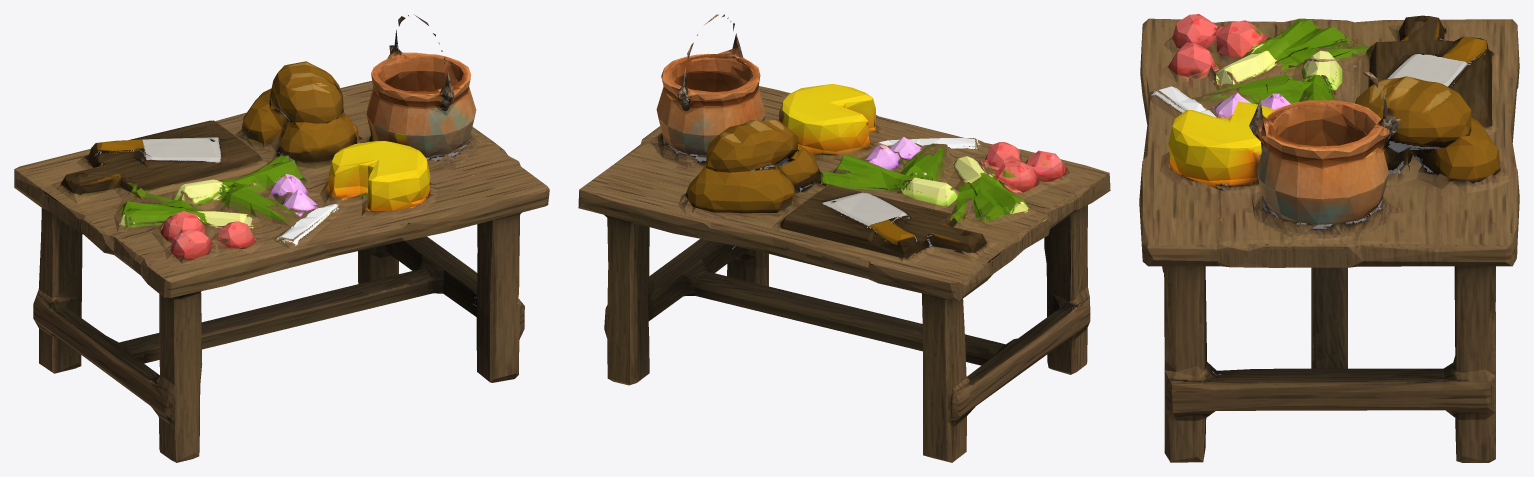
File: tut_preptable.glb
3 views of the same model, side by side, from view 1: azimuth 30°, elevation 25°; view 2: azimuth 150°, elevation 25°; view 3: azimuth 270°, elevation 25° (orthographic). The views are drawn at different scales.
Parts seen in each view (by area): view 1: tut_preptable; view 2: tut_preptable; view 3: tut_preptable.
Part boxes in pixels (x1,y1,x2,y2): tut_preptable: [14, 15, 549, 462]; tut_preptable: [578, 14, 1110, 462]; tut_preptable: [1139, 14, 1519, 462].
Bounding box in the file's own units: 1.39 × 1.1 × 0.9781.
1 material, 1 textured.
